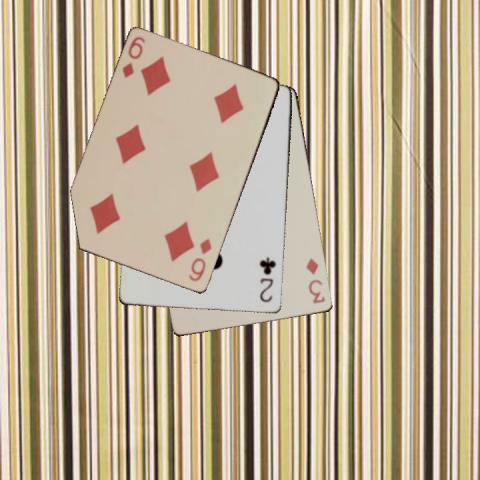2c: (257, 255, 277, 304)
3d: (303, 255, 327, 306)
6d: (186, 236, 214, 284), (119, 33, 147, 80)
